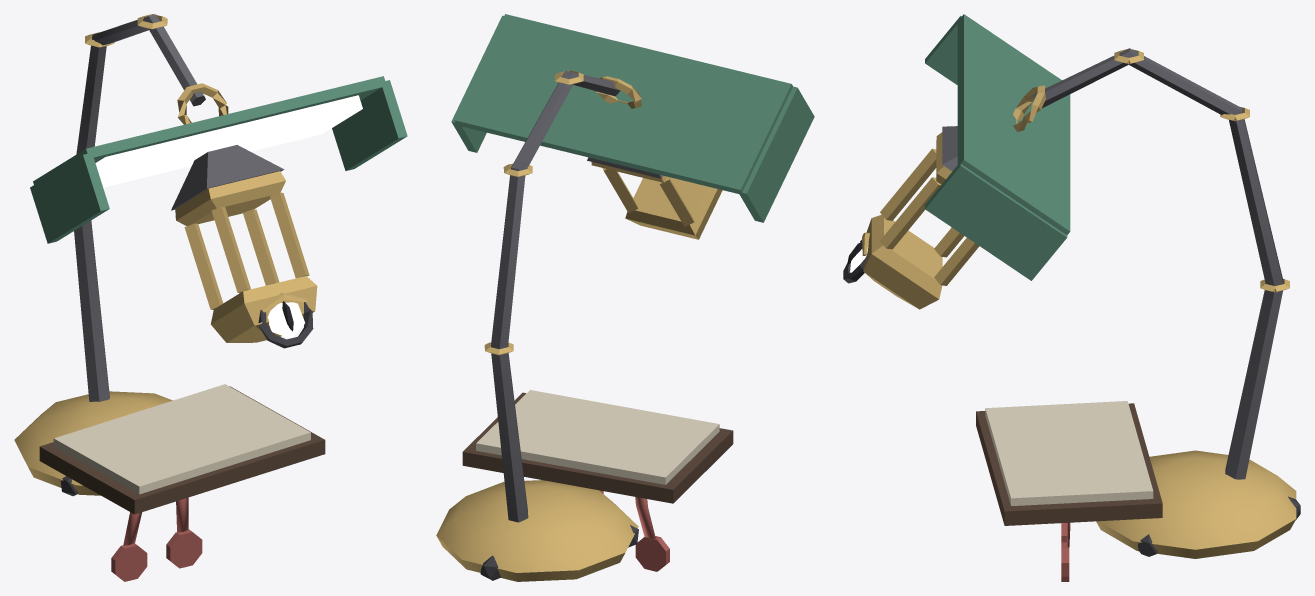
Rendered from lantern-clerks-flame.glb.
The picture shows the model from 3 angles, left to right: view 1: azimuth 30°, elevation 25°; view 2: azimuth 150°, elevation 25°; view 3: azimuth 270°, elevation 25°; orthographic projection. The views are drawn at different scales.
Visible parts, largest first — view 1: lantern_clerks_flame; view 2: lantern_clerks_flame; view 3: lantern_clerks_flame.
Boxes of the visible parts, x1,y1,x2,y2 form: lantern_clerks_flame: (14,14,407,581); lantern_clerks_flame: (436,14,814,581); lantern_clerks_flame: (843,14,1300,581).
Size of the model in its own units: 0.4444 by 0.729 by 0.5717.
